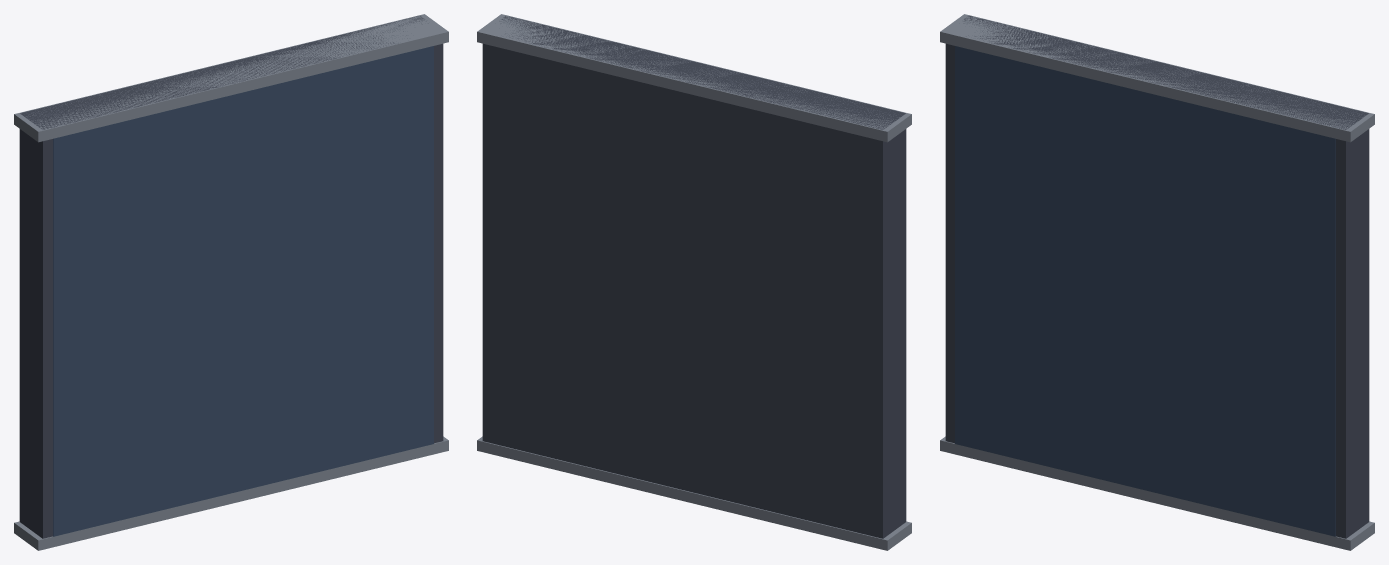
Rendered from CORP_MOD_Wall_Glass_4x4.glb.
3 views of the same model, side by side, from view 1: azimuth 30°, elevation 25°; view 2: azimuth 150°, elevation 25°; view 3: azimuth 330°, elevation 25° (orthographic).
Parts seen in each view (by area): view 1: CORP_MOD_Wall_Glass_4x4; view 2: CORP_MOD_Wall_Glass_4x4; view 3: CORP_MOD_Wall_Glass_4x4.
Boxes of the visible parts, x1,y1,x2,y2 form: CORP_MOD_Wall_Glass_4x4: (14, 14, 448, 550); CORP_MOD_Wall_Glass_4x4: (477, 14, 911, 550); CORP_MOD_Wall_Glass_4x4: (940, 14, 1374, 550).
Size of the model in its own units: 4.1 by 4 by 0.42.
